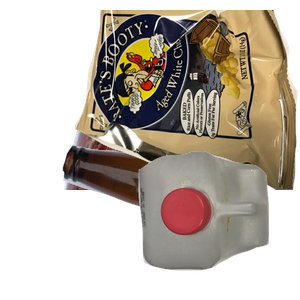glass: (60, 142, 300, 300)
metal: (62, 47, 300, 227)
plastic: (136, 149, 300, 300)
trash: (75, 10, 300, 190)
